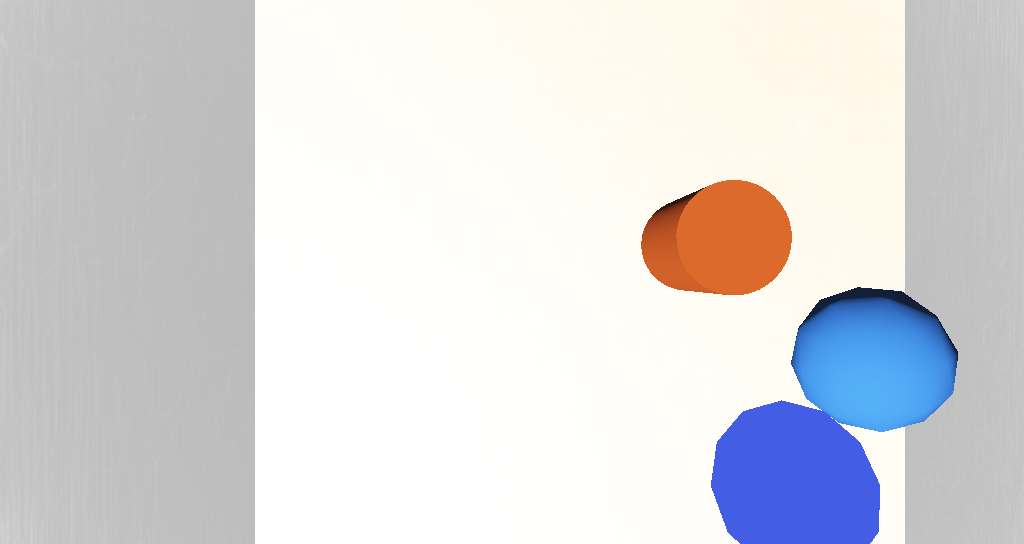cone: (532, 241, 586, 274)
cylinder: (546, 308, 613, 370)
sphere: (603, 274, 664, 317)
